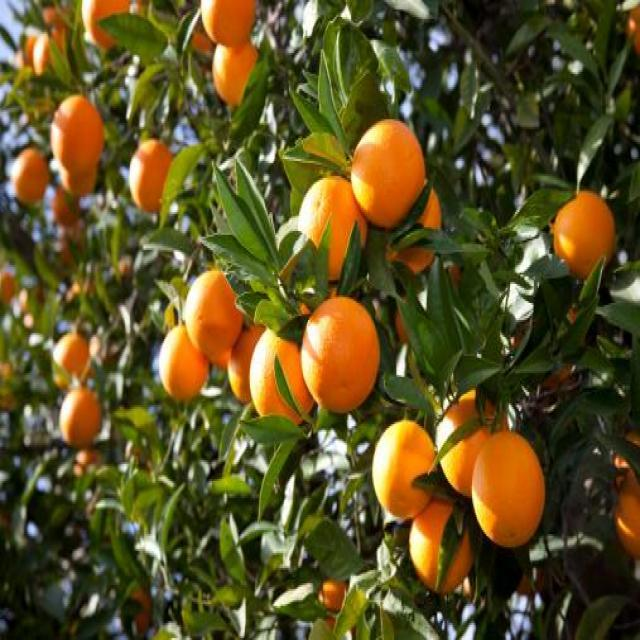Jeruk Sudah Matang: (304, 297, 383, 417), (439, 382, 514, 502), (473, 430, 544, 551), (354, 118, 424, 222), (410, 494, 476, 598), (371, 414, 438, 516), (368, 417, 436, 515), (182, 263, 242, 369), (50, 91, 104, 197), (554, 186, 616, 274), (610, 424, 638, 574), (210, 32, 258, 108), (612, 428, 640, 555), (160, 326, 208, 398), (131, 132, 173, 212), (132, 136, 176, 212), (308, 174, 338, 269), (90, 0, 142, 53), (64, 384, 102, 449), (203, 0, 255, 47), (36, 19, 78, 72), (60, 388, 104, 438), (15, 148, 49, 208), (56, 333, 88, 375), (321, 572, 346, 625), (55, 330, 86, 368)
